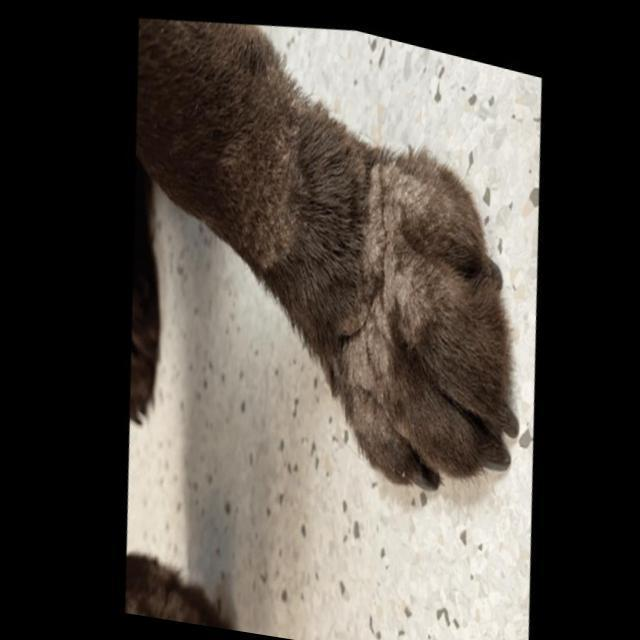mange: (286, 142, 469, 469)
